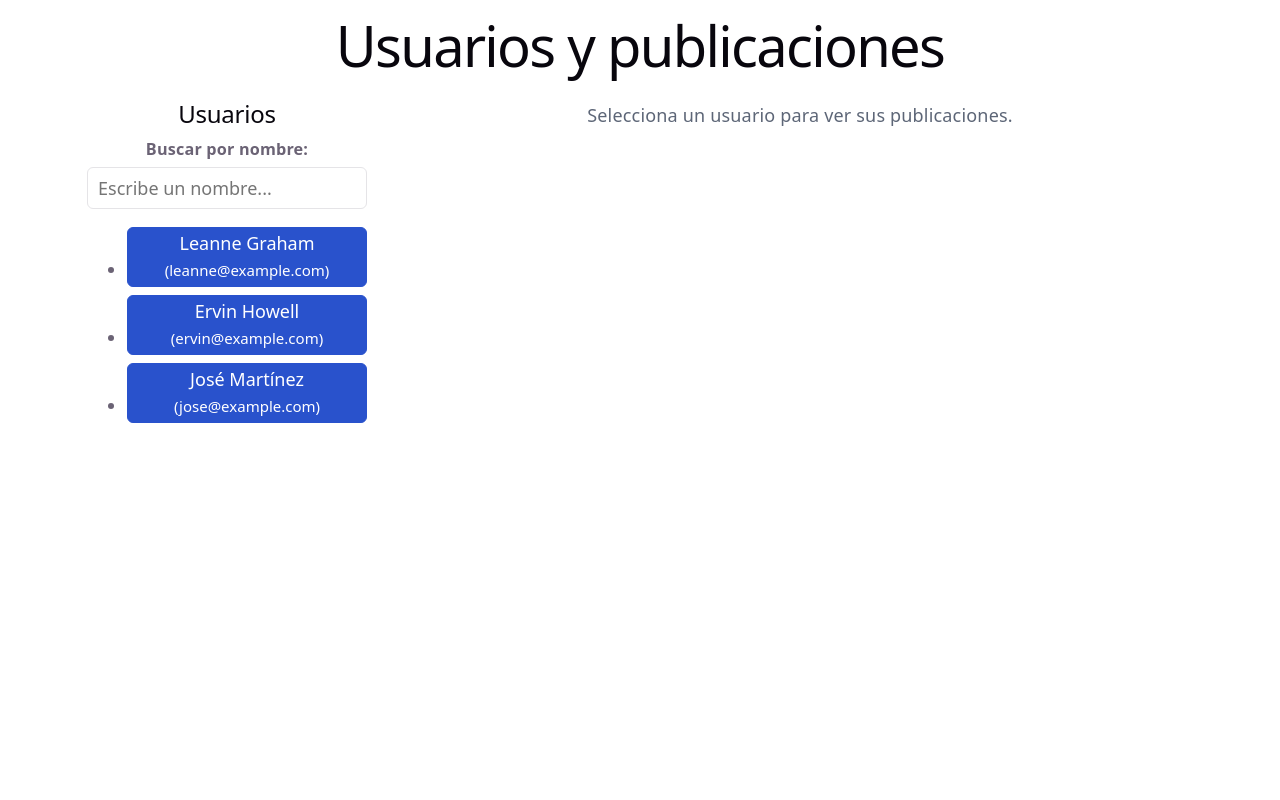
Scenario: Publicaciones de un usuario › crea una publicación y la muestra primera en la lista
Click the button "Leanne Graham (leanne@example.com)" at (247, 257), box [127,226,367,287]
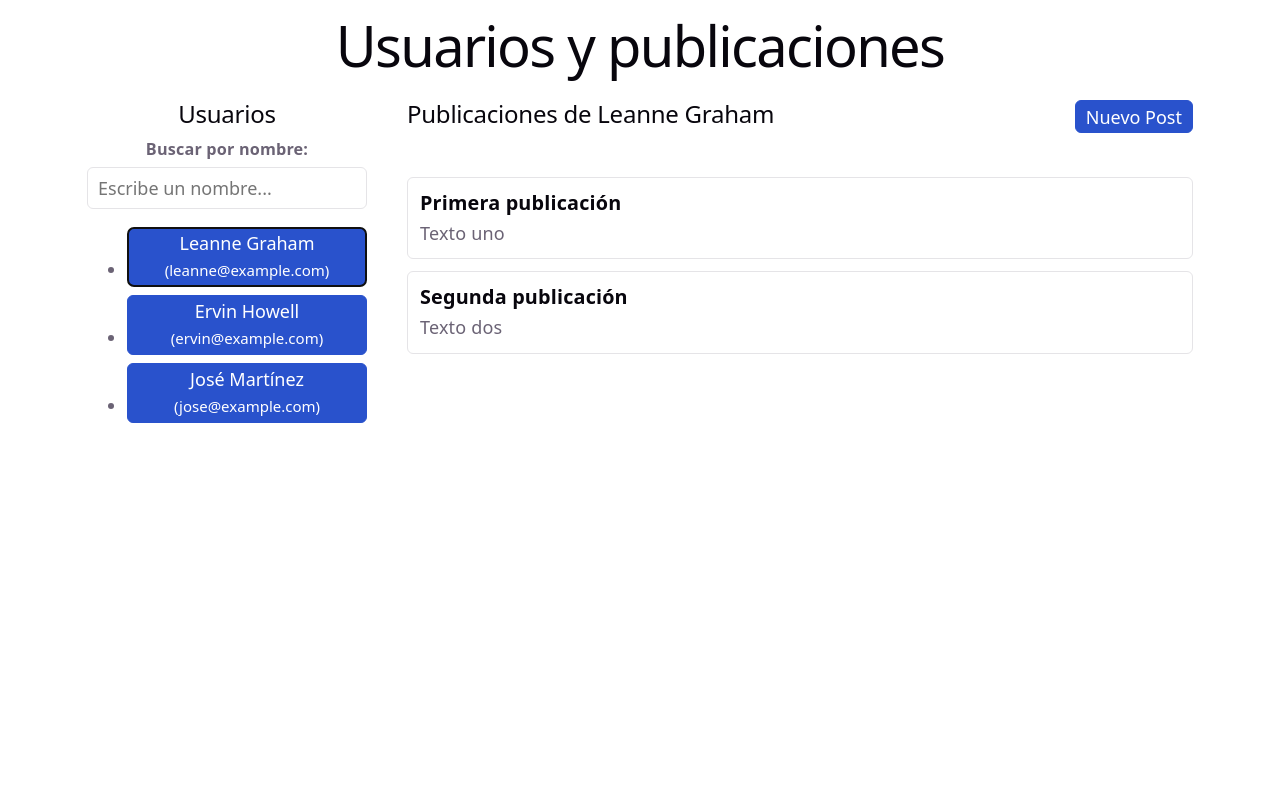
Click the button "Nuevo Post" at (1134, 117), box [1075,100,1193,133]
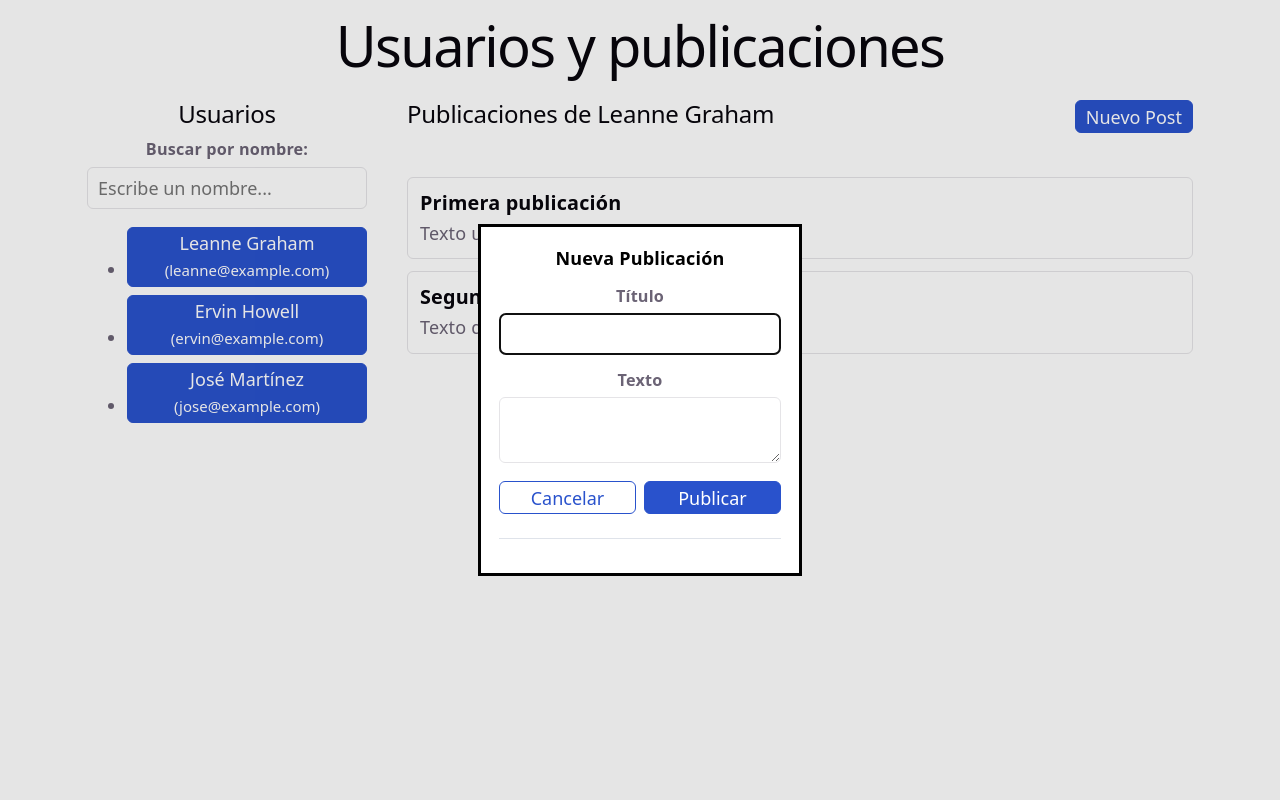
Type "Mi publicación" into the field labelled "Título" at (640, 334), box [499,313,781,355]
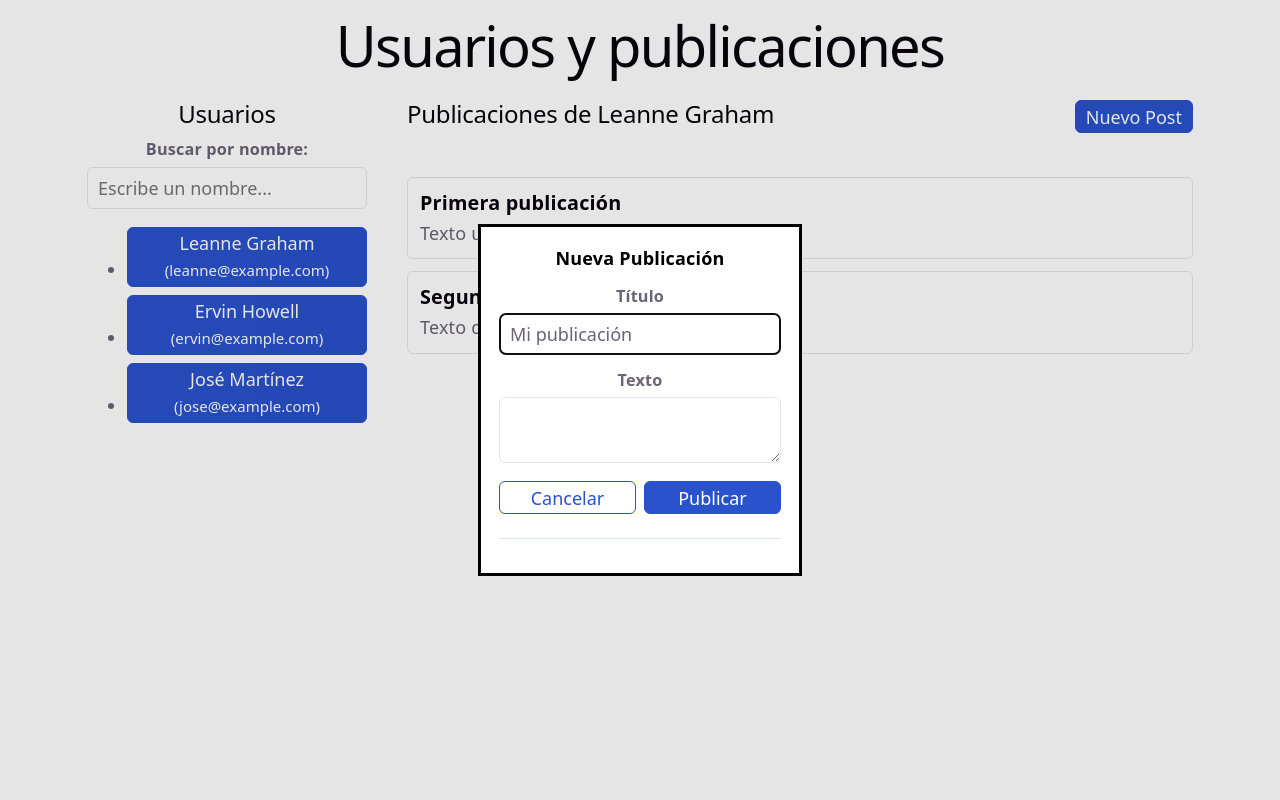
Type "Contenido de prueba" into the text box labelled "Texto" at (640, 430), box [499,397,781,463]
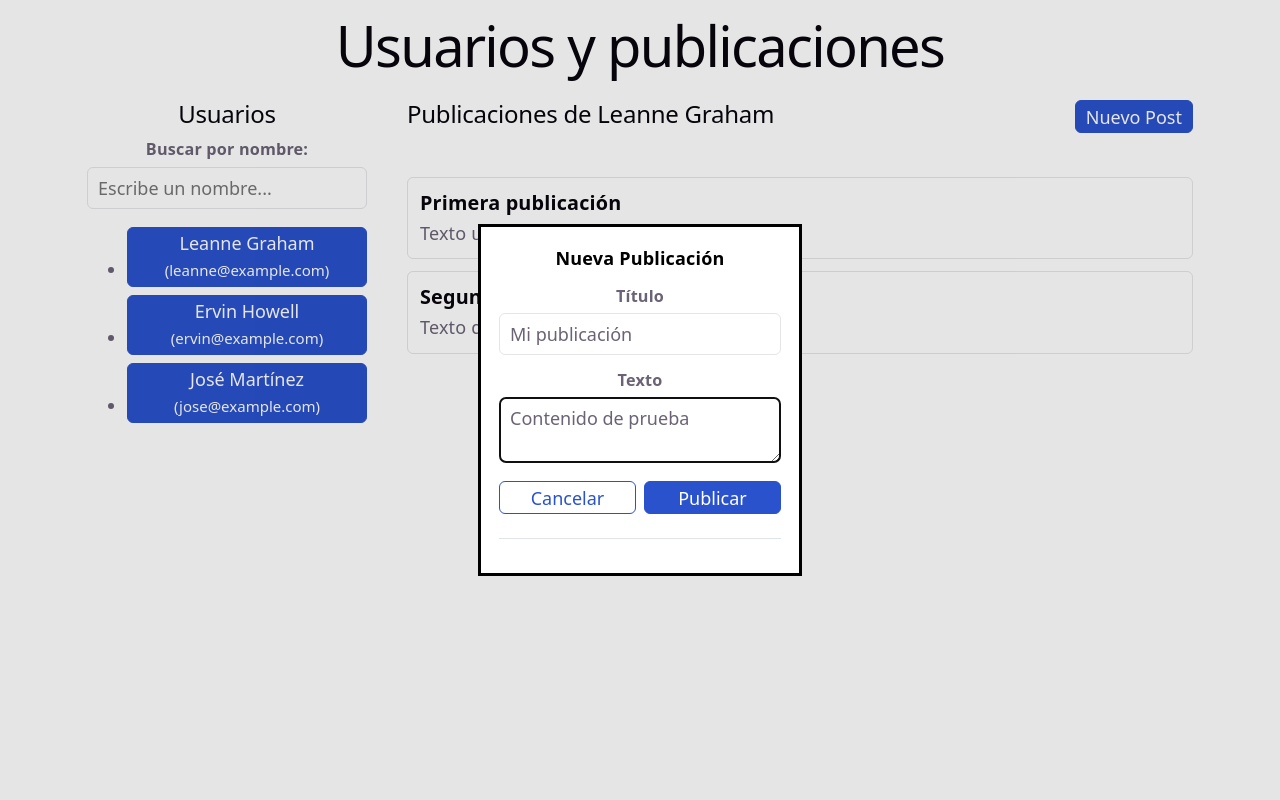
Click the button "Publicar" at (712, 498), box [644,481,781,514]
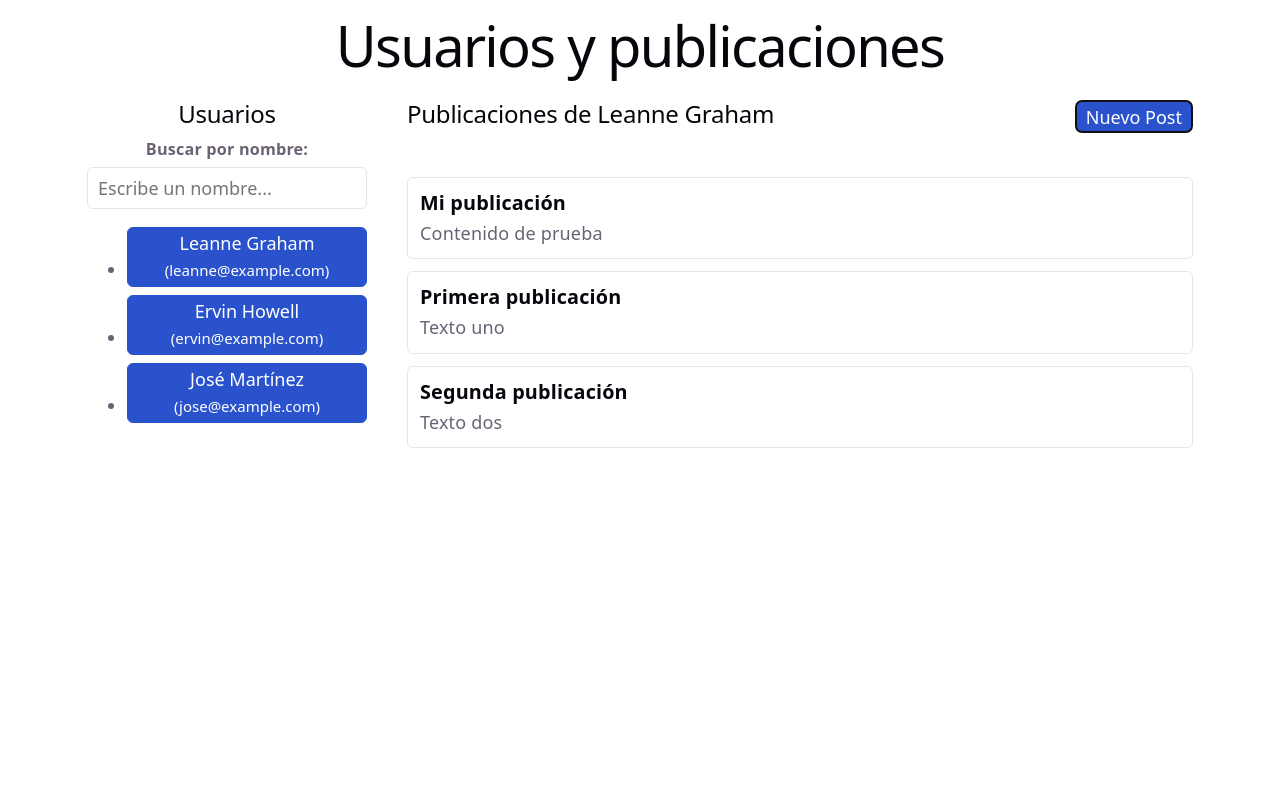
Check: the heading "Mi publicación" is shown, box [420,189,566,216]
Check: the list item "Mi publicación Contenido de prueba" is shown, box [407,177,1193,259]
